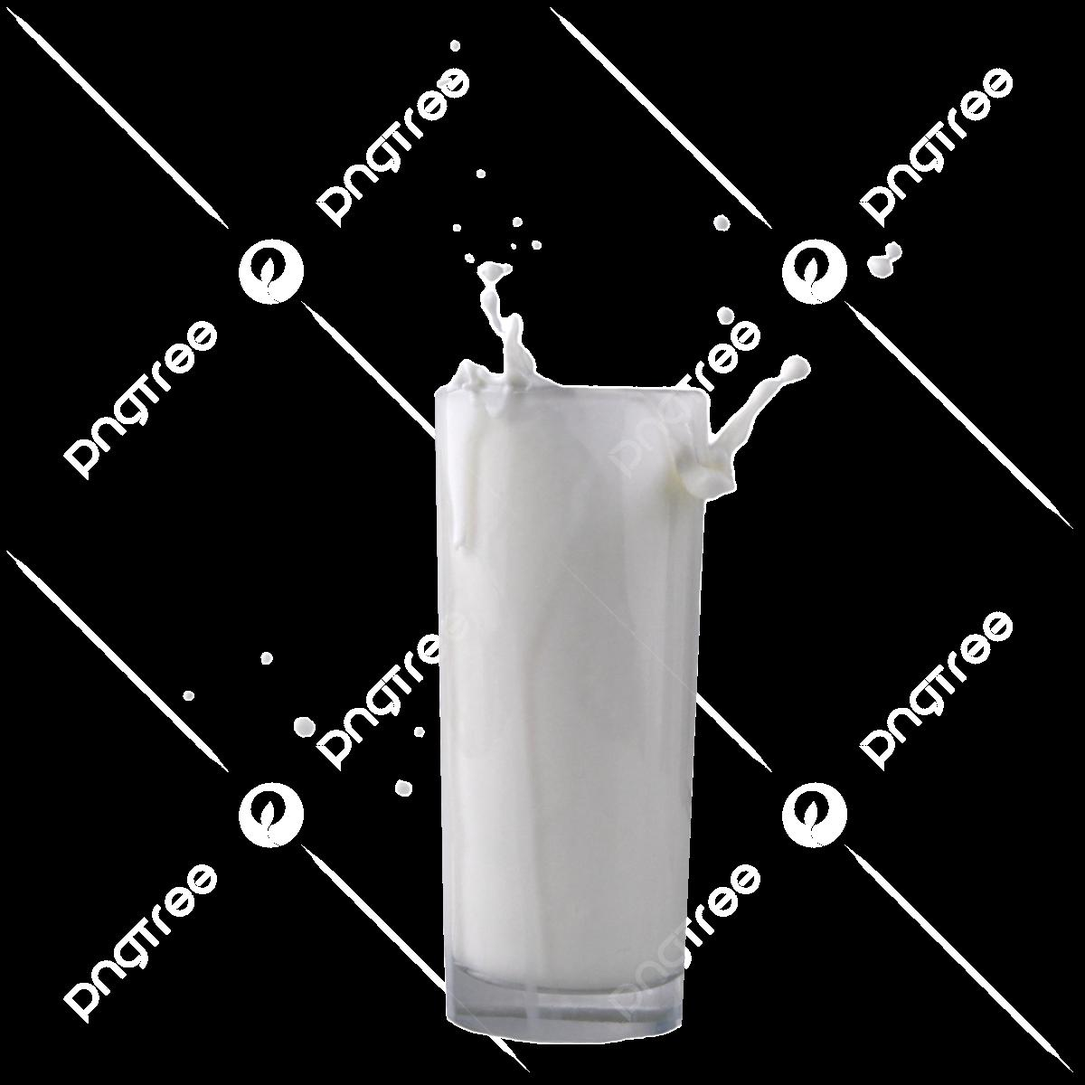produk_susu: (470, 390, 697, 999)
